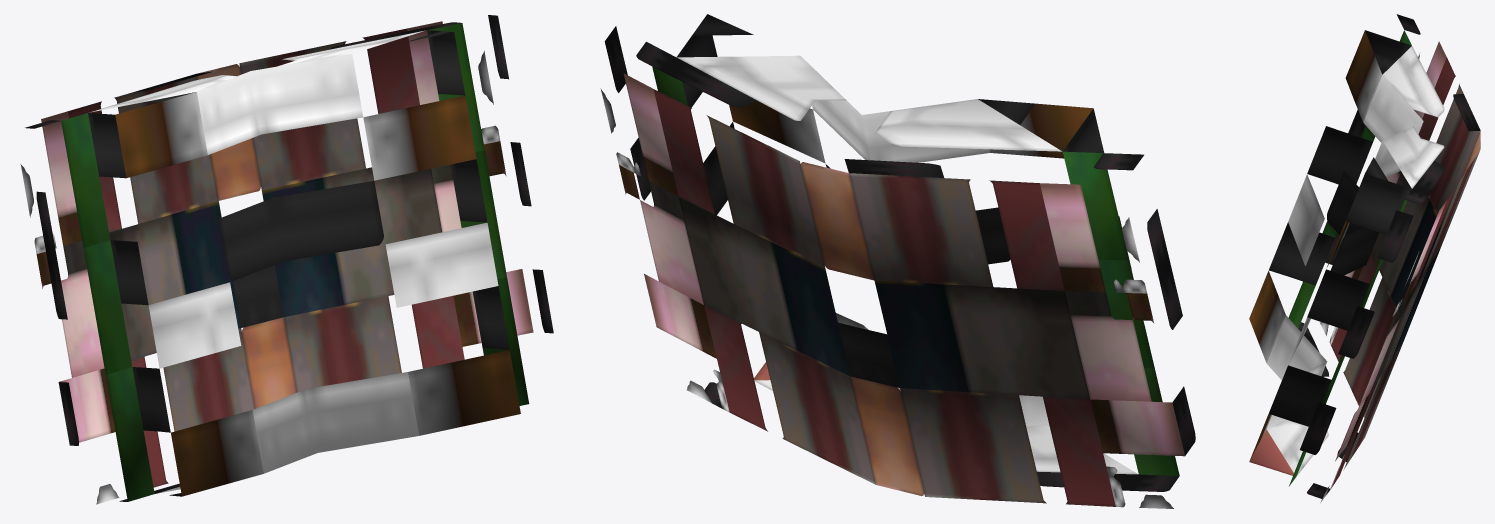
3 renders of one model, left to right at view 1: azimuth 30°, elevation 25°; view 2: azimuth 150°, elevation 25°; view 3: azimuth 270°, elevation 25°, orthographic. The views are drawn at different scales.
Visible parts, largest first — view 1: T1L3M001_18; view 2: T1L3M001_18; view 3: T1L3M001_18.
Boxes of the visible parts, left/top/right/bottom form: T1L3M001_18: left=20, top=15, right=553, bottom=504; T1L3M001_18: left=600, top=14, right=1195, bottom=508; T1L3M001_18: left=1249, top=14, right=1480, bottom=502.
Size of the model in its own units: 0.5479 by 0.4258 by 0.2734.
